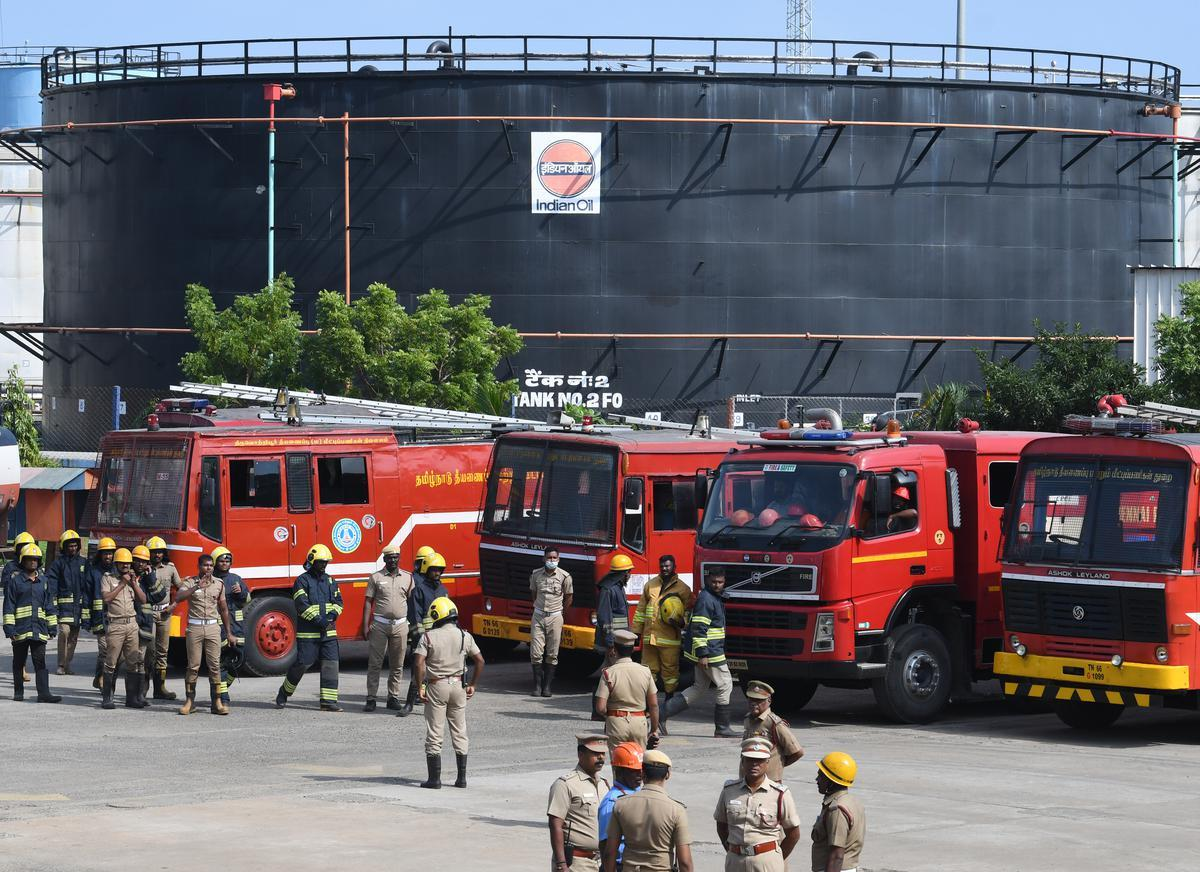Fire-engine: (92, 384, 585, 626), (465, 377, 736, 691), (703, 429, 1023, 686), (988, 425, 1200, 753)
